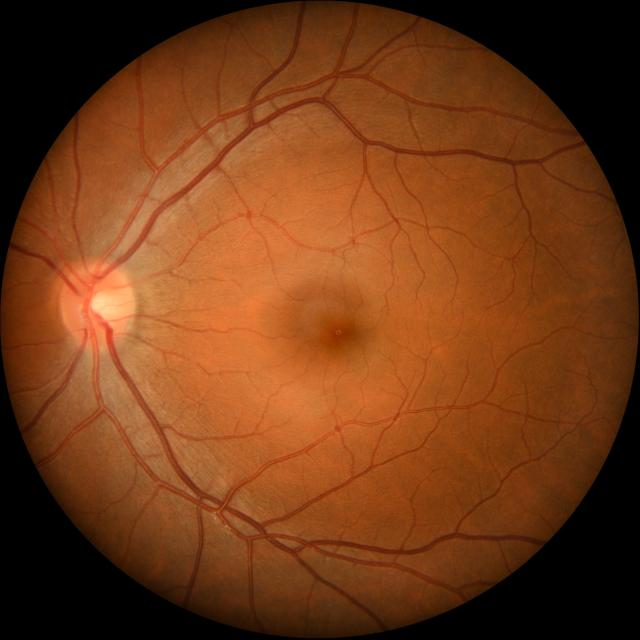OC: (86, 288, 116, 321)
OD: (60, 261, 134, 349)
